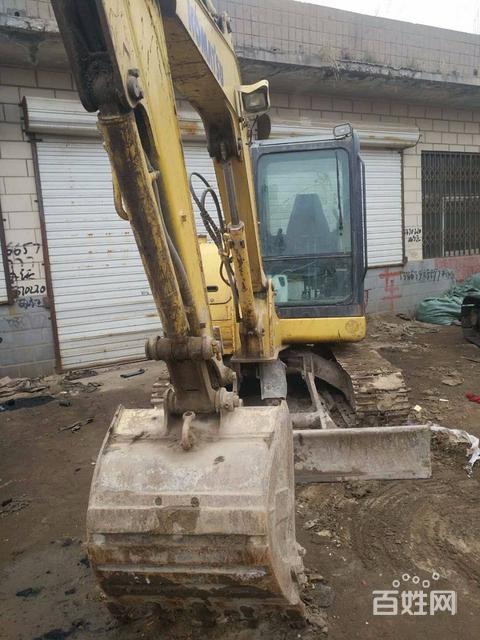excavator: (25, 1, 448, 630)
